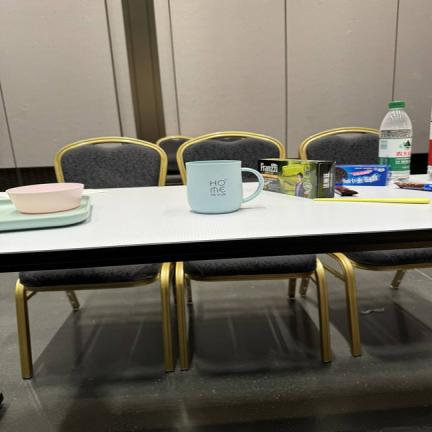cup: (186, 161, 263, 213)
